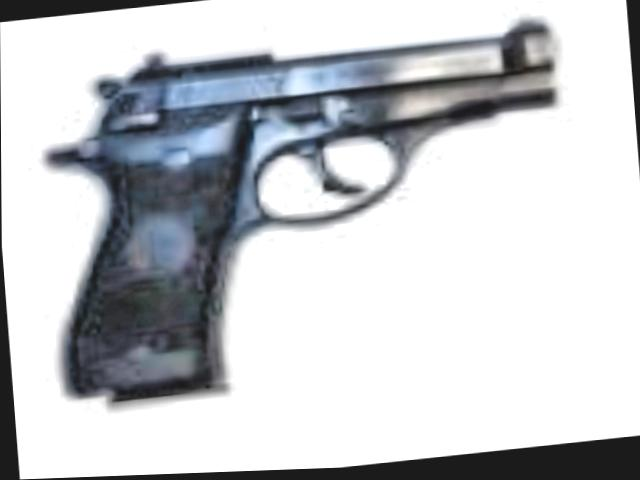pistol: (26, 0, 581, 422)
